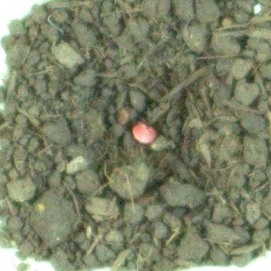chilli seed: (130, 118, 159, 146)
